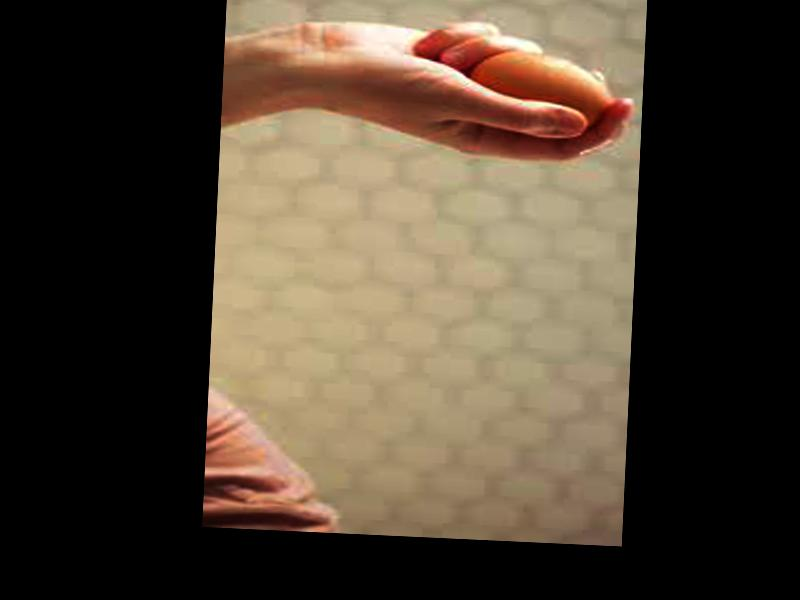Eggs: (468, 45, 611, 134)
